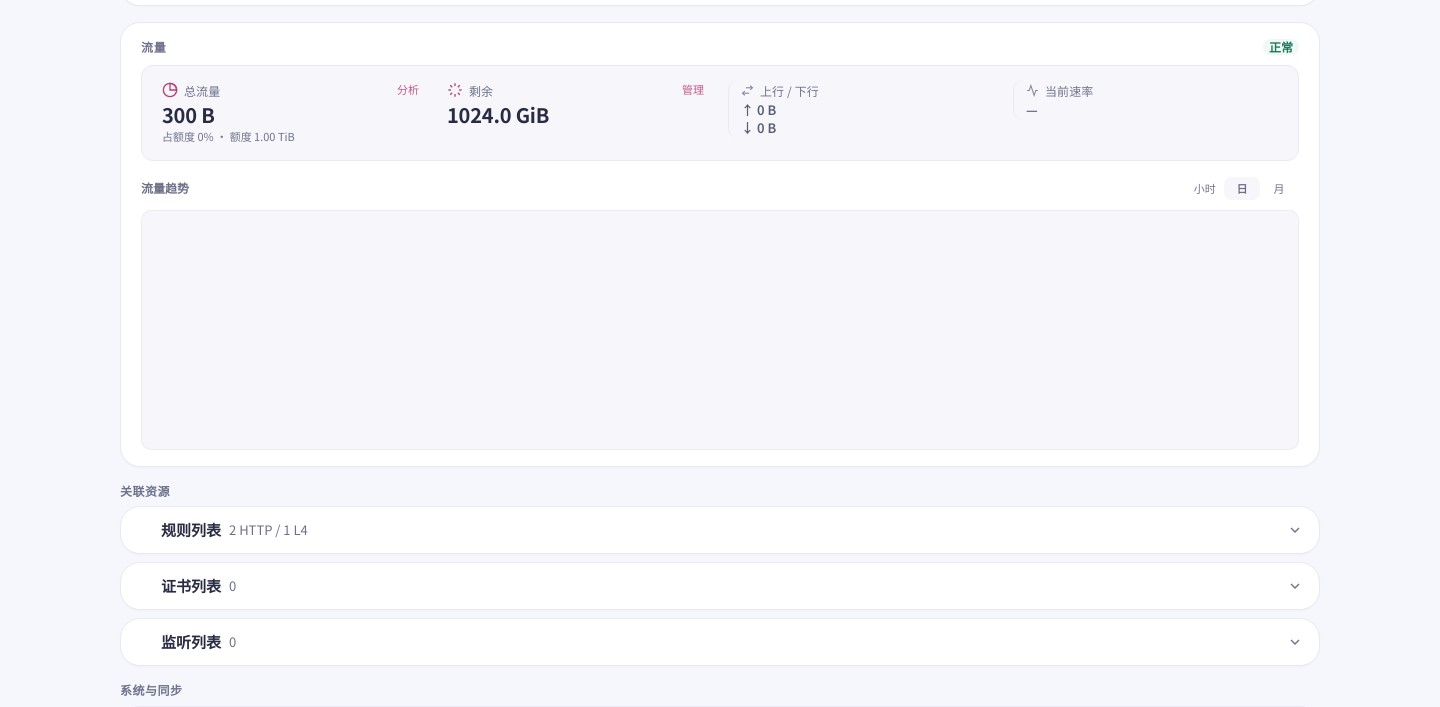
Scenario: AgentDetailPage › renders the rules section collapsed by default and lists HTTP/L4 rules when expanded
The width and height of the screenshot is (1440, 707).
(page scrolled)
Click the button with class "collapsible-section__header" showing "规则列表 2 HTTP / 1 L4" at (191, 530), box [121, 507, 1319, 553]
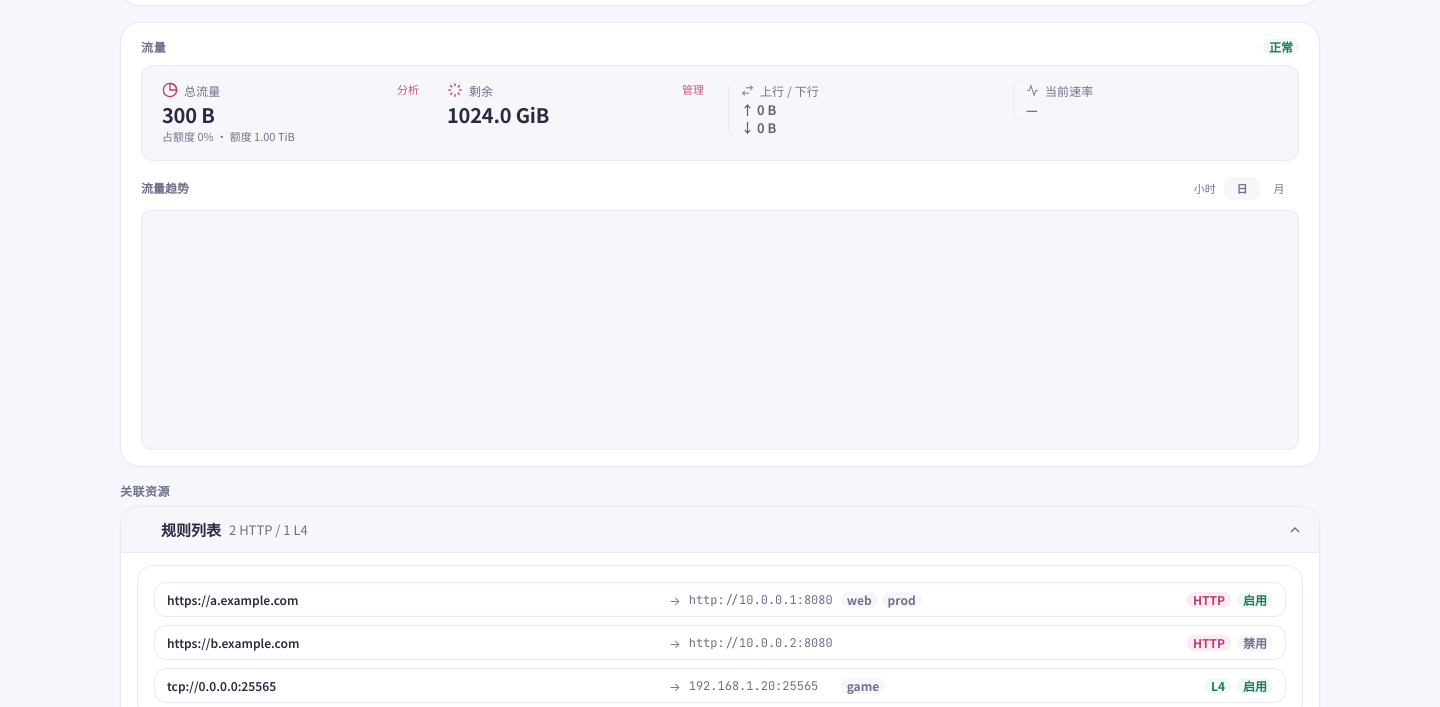
expect the number of elements with class "simple-list__row" is 3: met, box [154, 582, 1286, 617]; [154, 625, 1286, 660]; [154, 668, 1286, 703]
expect the element with class "simple-list__row" shows "http": met, box [1193, 591, 1225, 608]
expect the element with class "simple-list__row" shows "https://a.example.com": met, box [167, 591, 298, 608]
